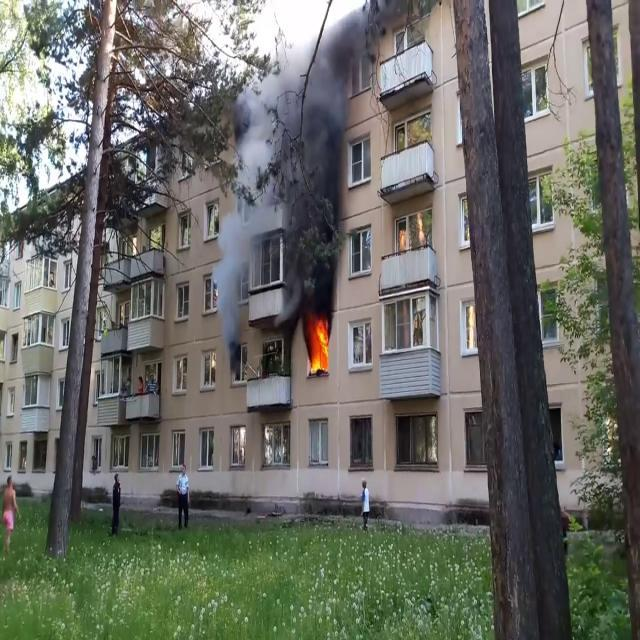Fire: (308, 311, 332, 374)
Smoke: (215, 2, 362, 312), (214, 191, 254, 362)
